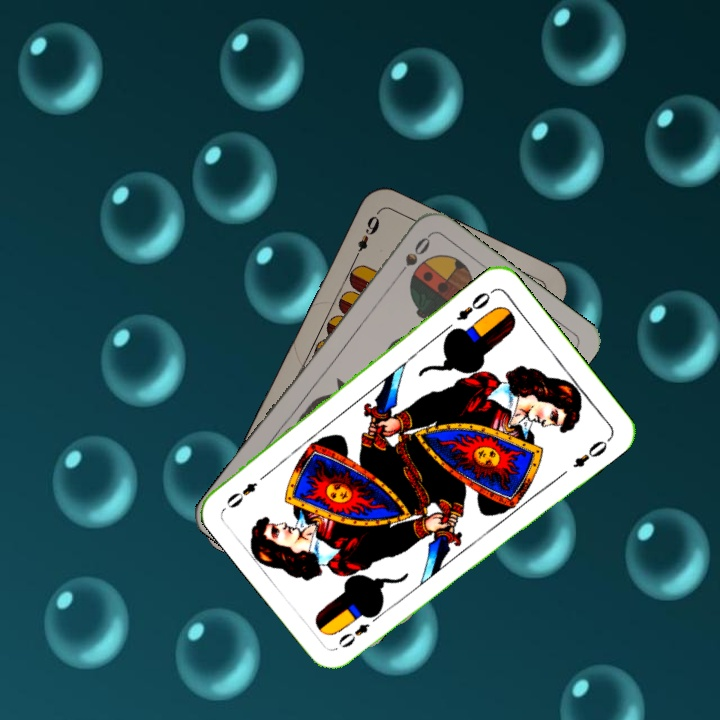E9: (349, 211, 382, 264)
EO: (334, 608, 384, 651), (452, 286, 497, 324)
SO: (391, 232, 433, 283)
